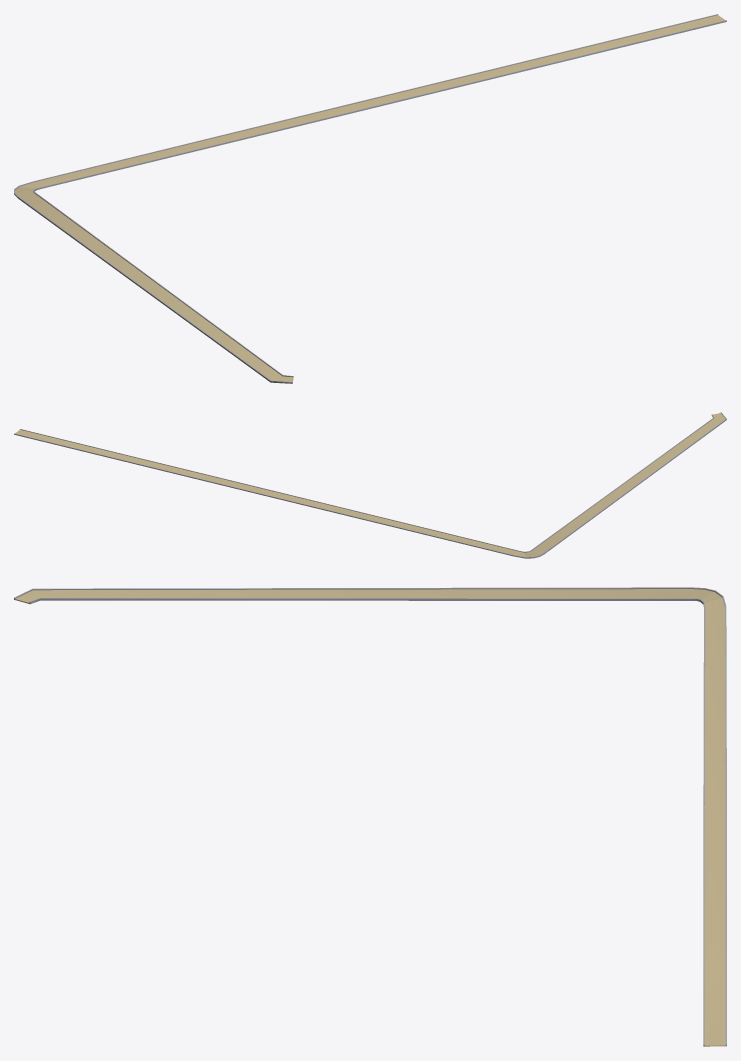
The model's file is sidewalk_03.fbx.
The picture shows the model from 3 angles, top to bottom: view 1: azimuth 30°, elevation 25°; view 2: azimuth 150°, elevation 25°; view 3: azimuth 270°, elevation 25°; orthographic projection. The views are drawn at different scales.
Visible parts, largest first — view 1: sidewalk_02; view 2: sidewalk_02; view 3: sidewalk_02.
Boxes of the visible parts, bbox=[...] form: sidewalk_02: bbox=[14, 14, 726, 383]; sidewalk_02: bbox=[14, 412, 726, 558]; sidewalk_02: bbox=[14, 587, 726, 1046].
Size of the model in its own units: 13.02 by 0.0342 by 8.59.
Materials: 1 (1 with a texture image).
